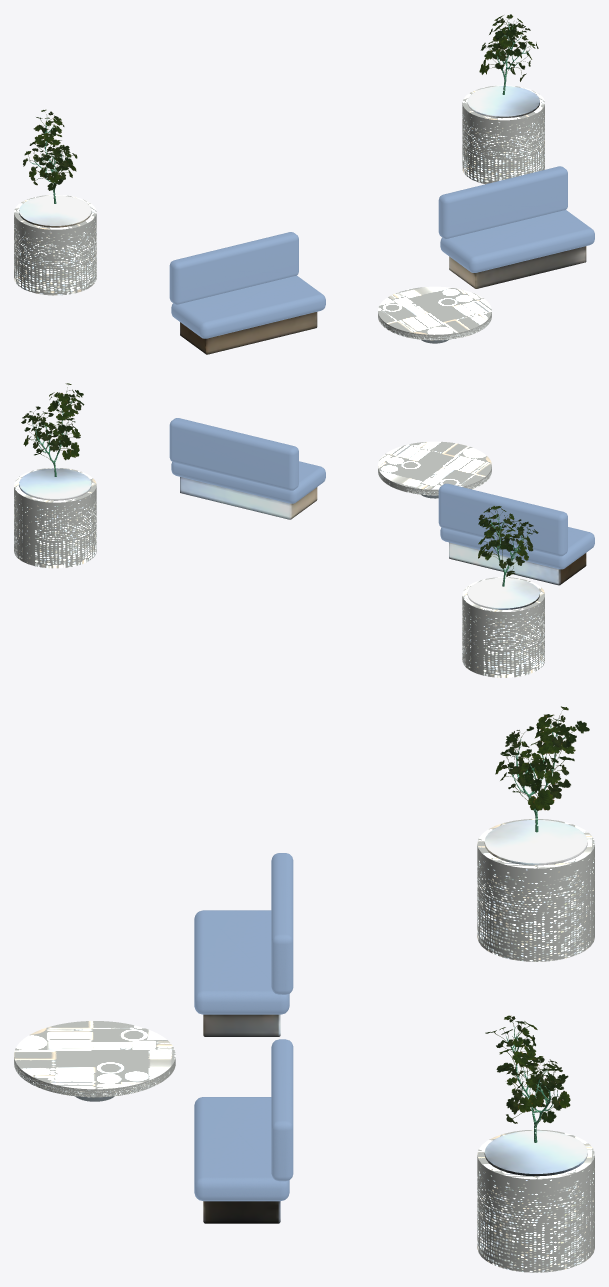
Rendered from contact.glb.
3 views of the same model, one above another, from view 1: azimuth 30°, elevation 25°; view 2: azimuth 150°, elevation 25°; view 3: azimuth 270°, elevation 25° (orthographic). The views are drawn at different scales.
Visible parts, largest first — view 1: Static_contact; view 2: Static_contact; view 3: Static_contact.
Boxes of the visible parts, left/top/right/bottom form: Static_contact: left=14, top=14, right=594, bottom=354; Static_contact: left=14, top=383, right=594, bottom=677; Static_contact: left=14, top=706, right=594, bottom=1272.
Size of the model in its own units: 11.6 by 3.43 by 7.9.
Materials: 7 (5 with a texture image).
